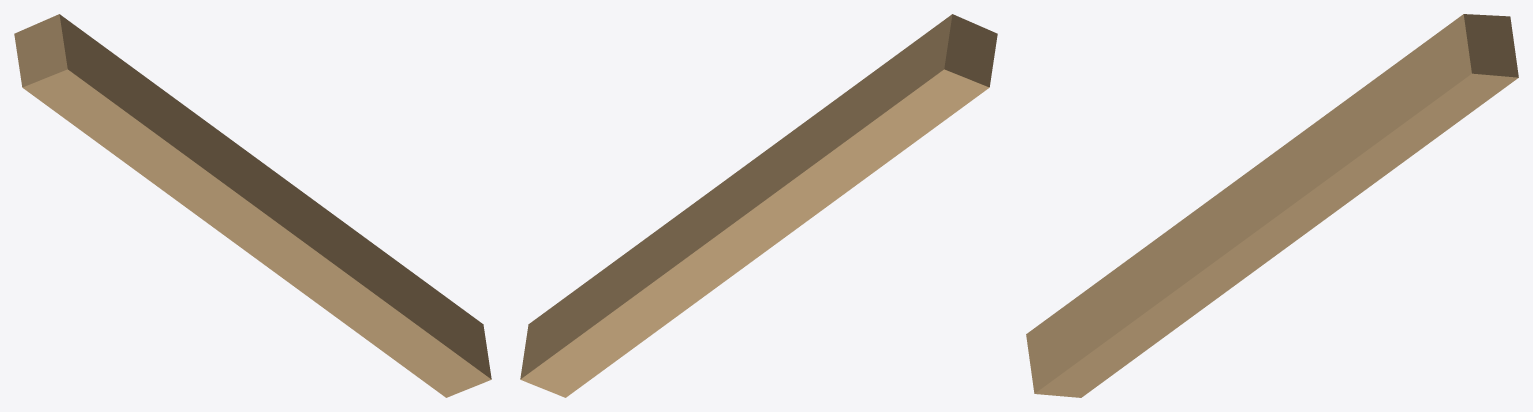
3 views of the same model, side by side, from view 1: azimuth 30°, elevation 25°; view 2: azimuth 150°, elevation 25°; view 3: azimuth 330°, elevation 25° (orthographic). The views are drawn at different scales.
Visible parts, largest first — view 1: 0_1_2_0_0_2_3_3_3_2_0_2_0; view 2: 0_1_2_0_0_2_3_3_3_2_0_2_0; view 3: 0_1_2_0_0_2_3_3_3_2_0_2_0.
Part boxes in pixels (left/top/right/bottom): 0_1_2_0_0_2_3_3_3_2_0_2_0: left=14, top=14, right=491, bottom=397; 0_1_2_0_0_2_3_3_3_2_0_2_0: left=520, top=14, right=997, bottom=397; 0_1_2_0_0_2_3_3_3_2_0_2_0: left=1026, top=14, right=1518, bottom=397.
Size of the model in its own units: 1.75 by 2.02 by 24.
